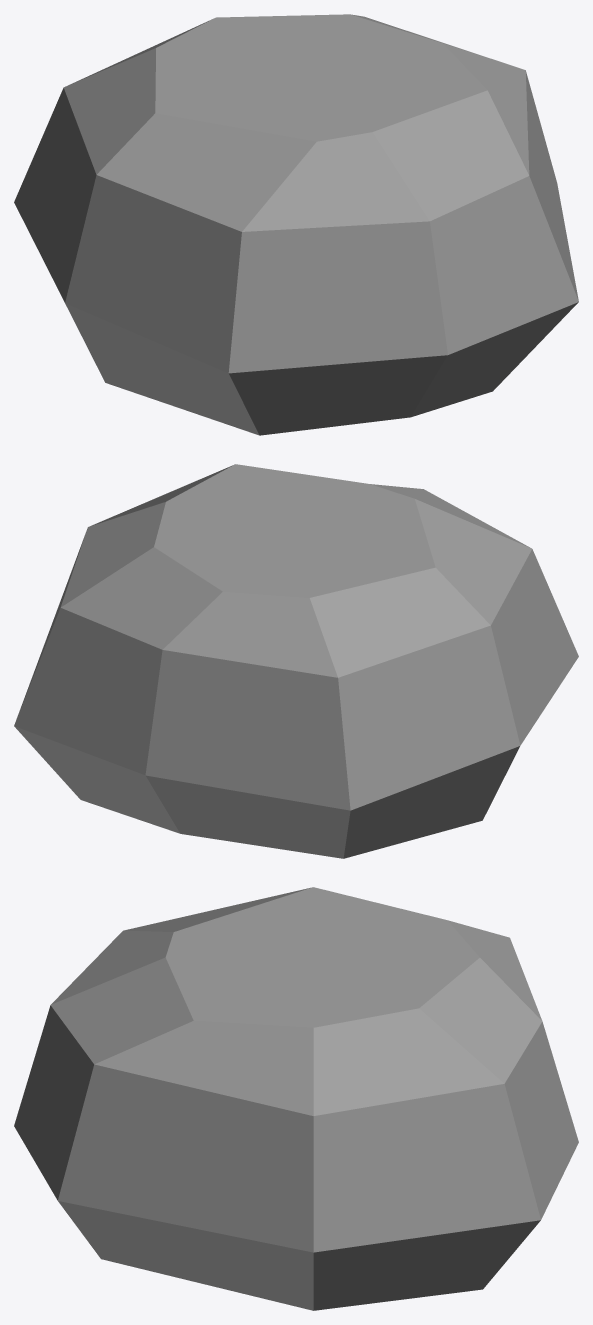
The model's file is Rock_Small.fbx.
3 renders of one model, top to bottom at view 1: azimuth 30°, elevation 25°; view 2: azimuth 150°, elevation 25°; view 3: azimuth 270°, elevation 25°, orthographic. The views are drawn at different scales.
Parts seen in each view (by area): view 1: Cube; view 2: Cube; view 3: Cube.
Boxes of the visible parts, box(x1,y1,x2,y2) form: Cube: box(14, 14, 578, 435); Cube: box(14, 464, 578, 858); Cube: box(14, 887, 578, 1310).
Size of the model in its own units: 0.6182 by 0.3089 by 0.612.
